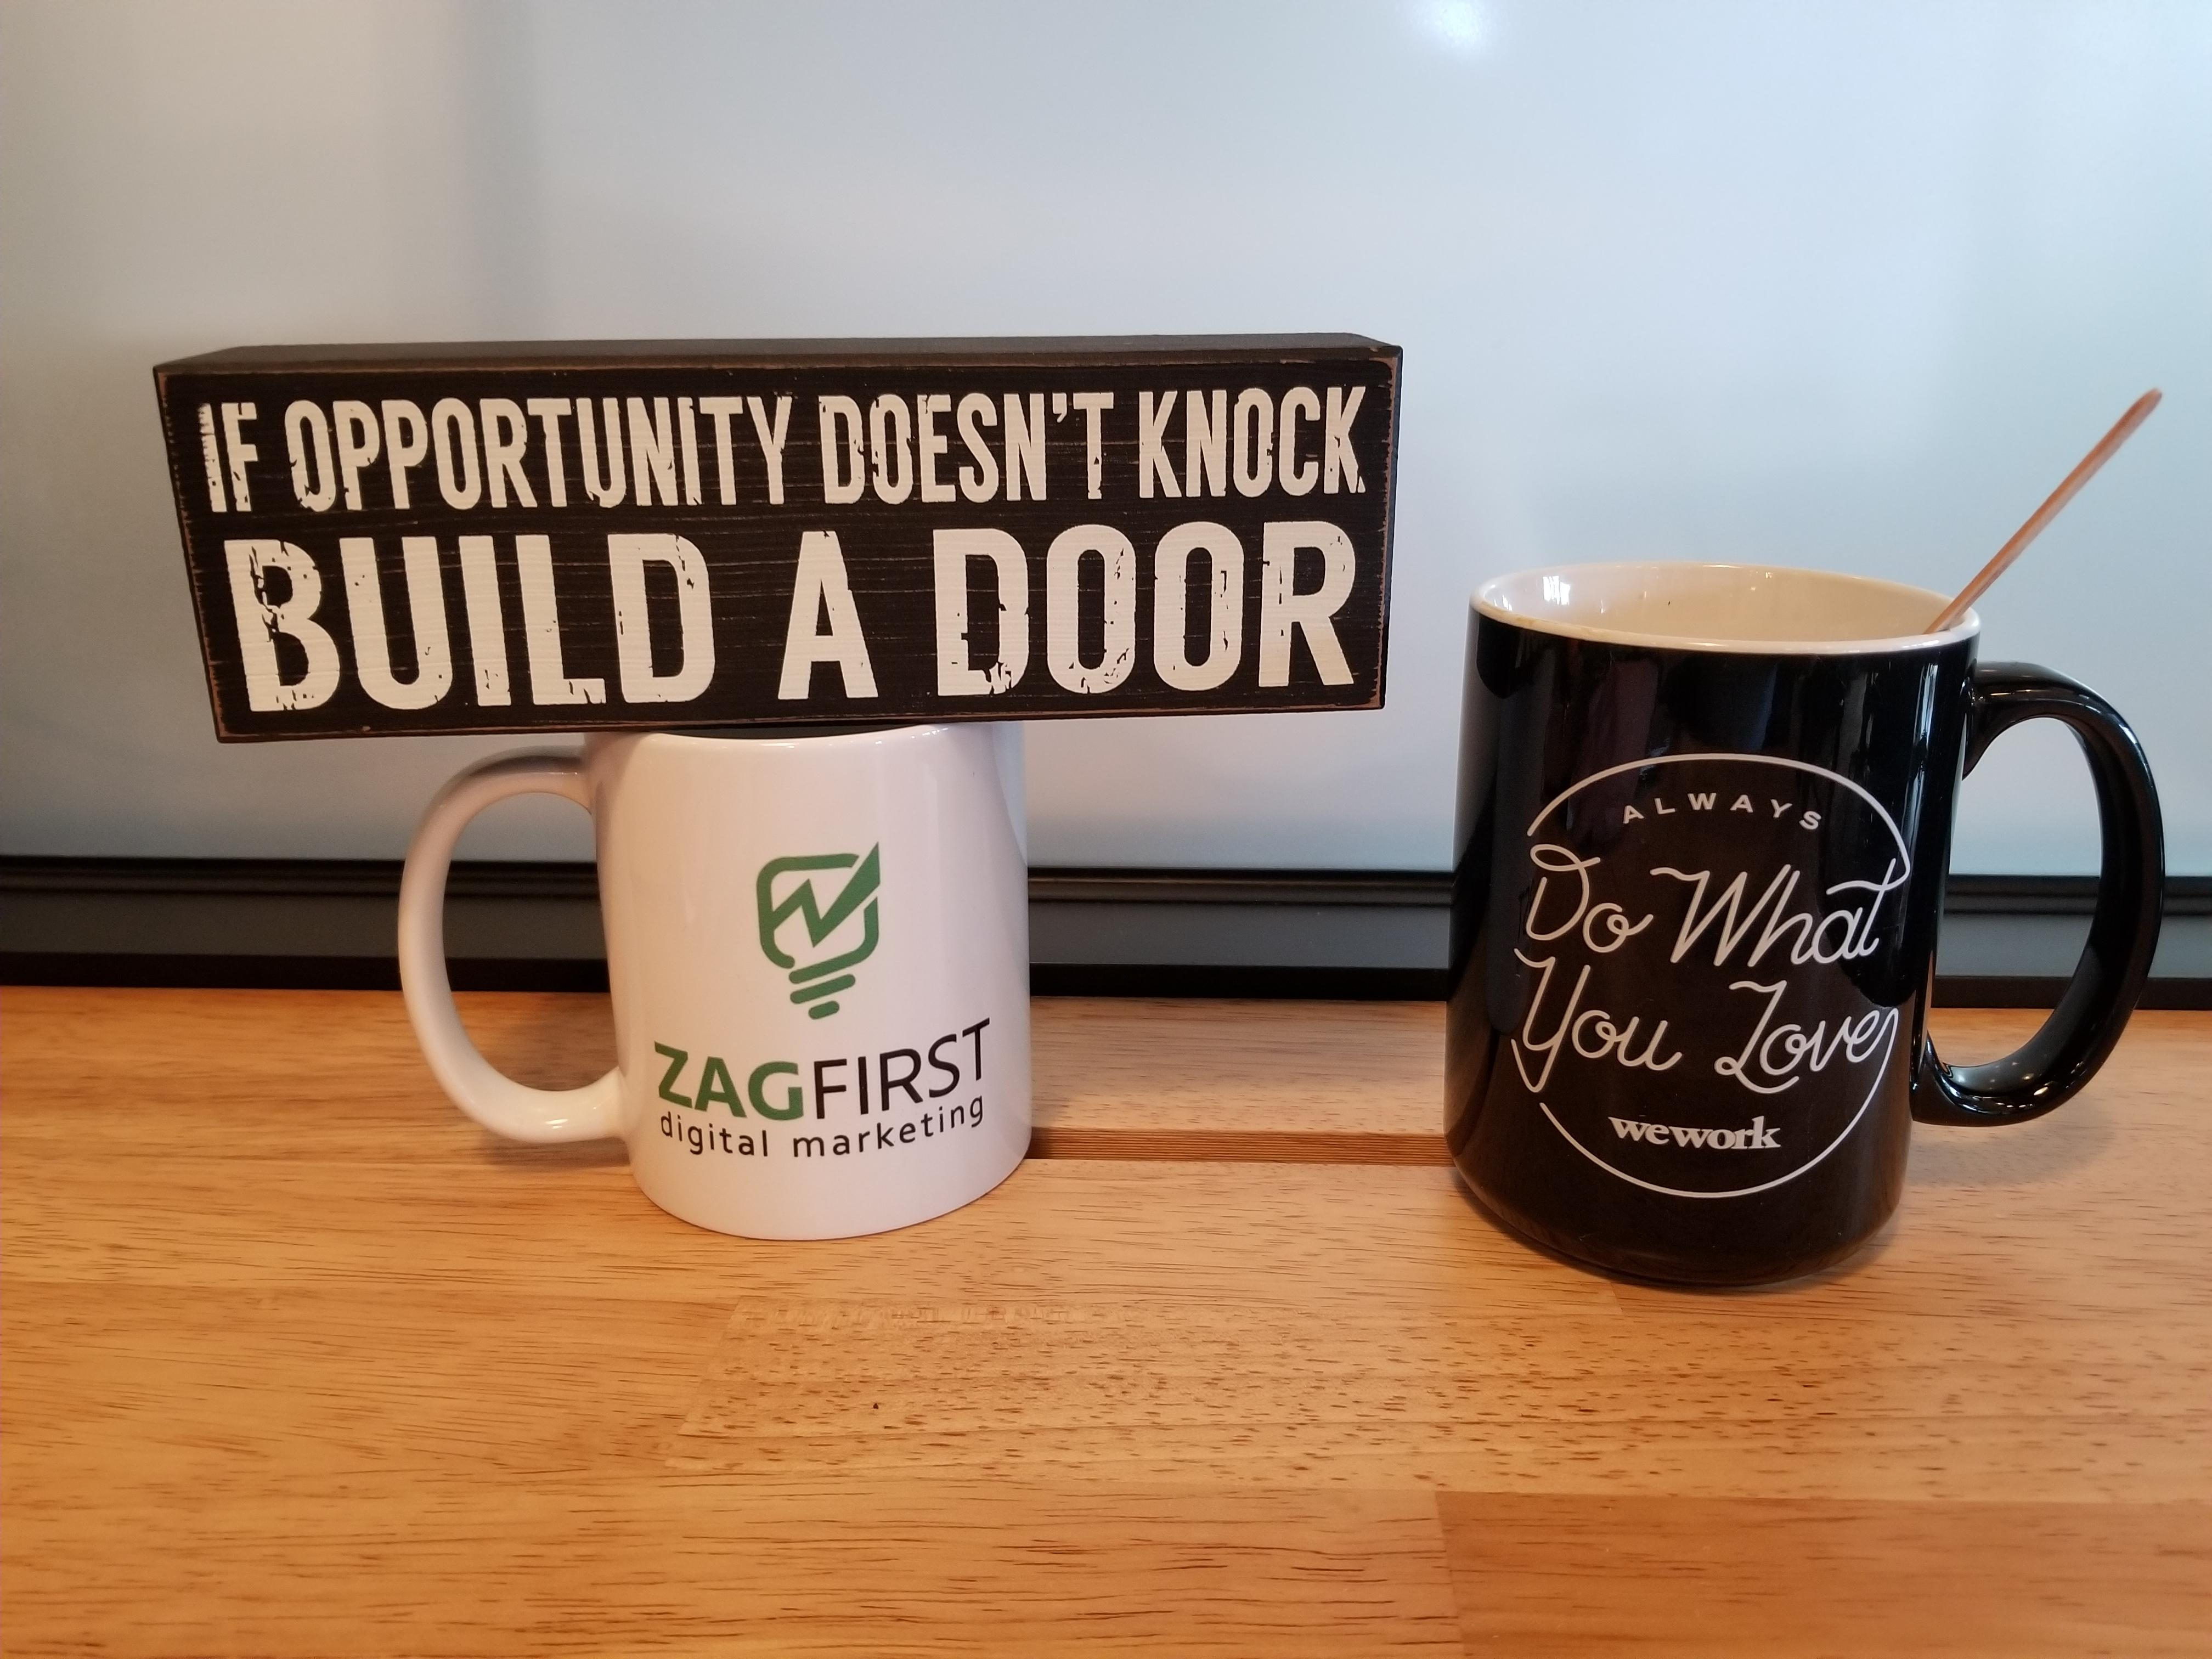wework: (1599, 1105, 1794, 1161)
